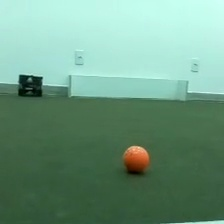ball: (119, 142, 151, 177)
goal: (64, 71, 190, 103)
robot: (16, 72, 45, 98)
